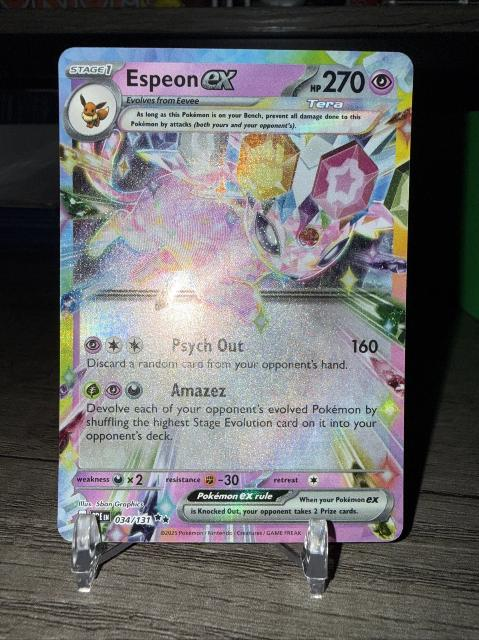Card: (53, 42, 418, 548)
Name: (124, 60, 244, 95)
